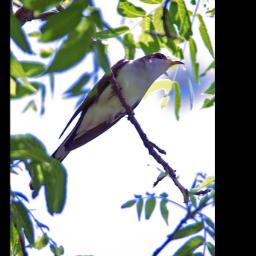Cuckoo: (29, 51, 185, 191)
